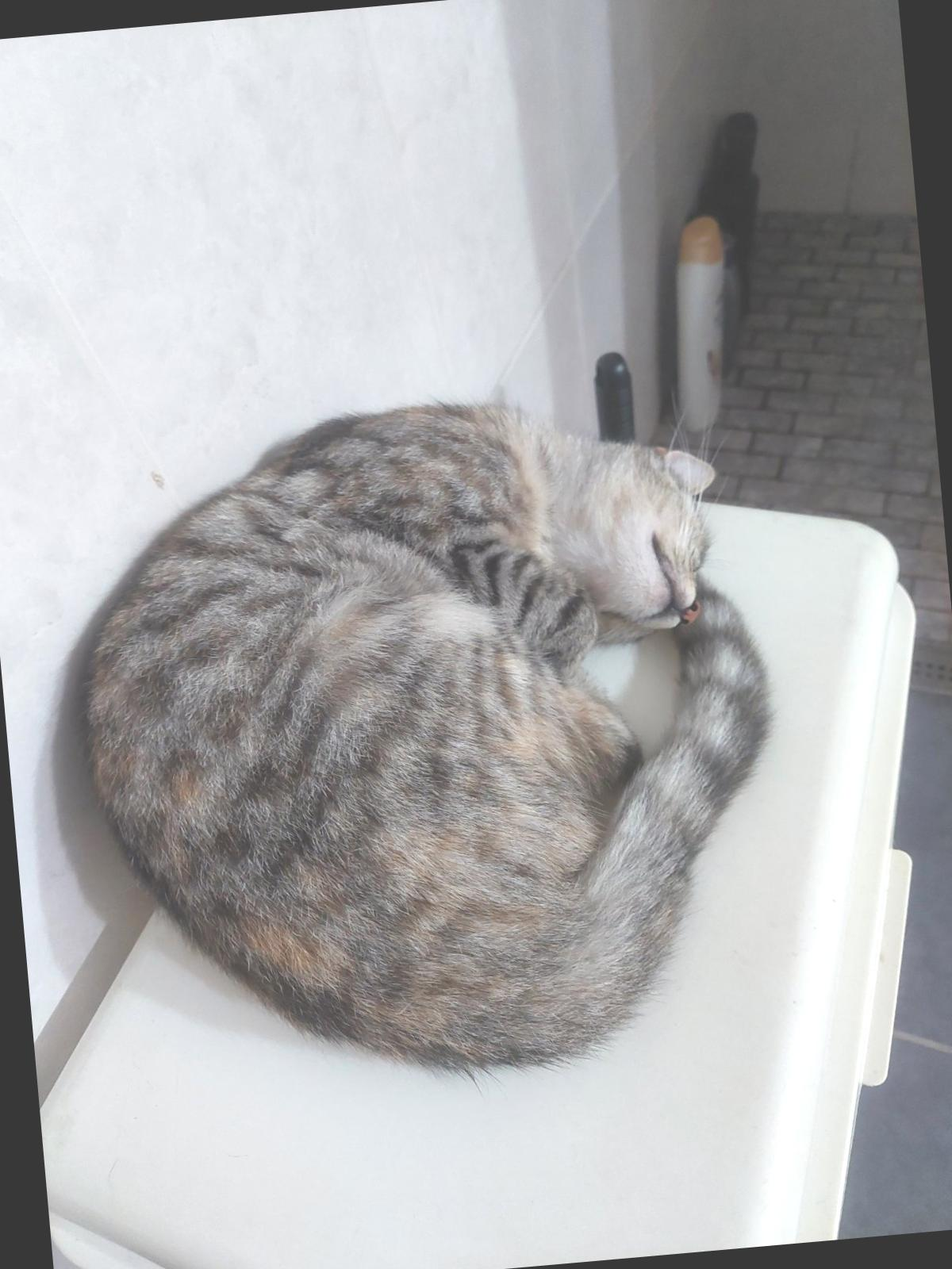macka: (52, 376, 803, 1108)
